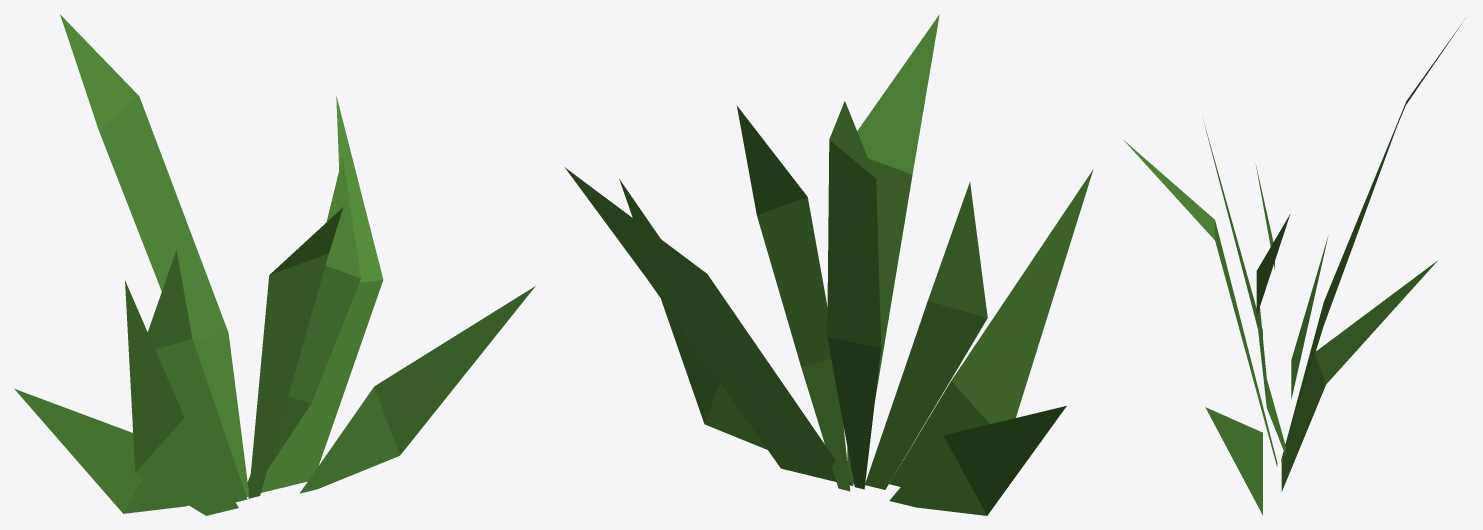
The model's file is grass-tall.glb.
3 renders of one model, left to right at view 1: azimuth 30°, elevation 25°; view 2: azimuth 150°, elevation 25°; view 3: azimuth 270°, elevation 25°, orthographic. The views are drawn at different scales.
Parts seen in each view (by area): view 1: grass-tall; view 2: grass-tall; view 3: grass-tall.
Part boxes in pixels (x1=…): grass-tall: x1=14, y1=14, x2=535, y2=515; grass-tall: x1=565, y1=14, x2=1093, y2=515; grass-tall: x1=1124, y1=19, x2=1464, y2=514.
Size of the model in its own units: 1.25 by 1.13 by 0.8707.
